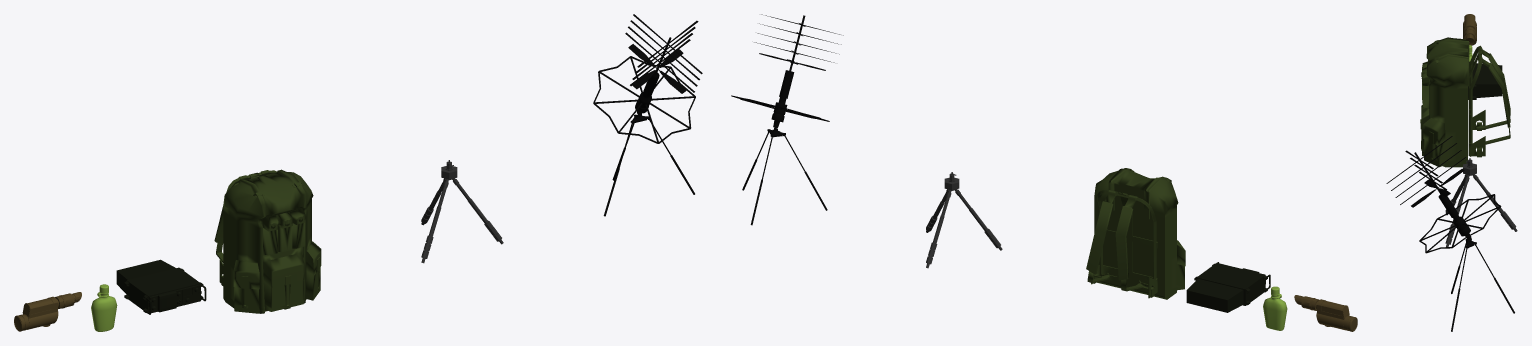
3 views of the same model, side by side, from view 1: azimuth 30°, elevation 25°; view 2: azimuth 150°, elevation 25°; view 3: azimuth 270°, elevation 25° (orthographic). The views are drawn at different scales.
Visible parts, largest first — view 1: Ruck, Antennae, Radio, ScopeRetopo, Tripod, Canteen; view 2: Ruck, Radio, Antennae, ScopeRetopo, Tripod, Canteen; view 3: Ruck, Antennae, Tripod, Radio, ScopeRetopo.
Boxes of the visible parts, <box> form: Ruck: <box>214,169,321,313</box>; Antennae: <box>593,14,702,216</box>; Radio: <box>116,259,206,314</box>; ScopeRetopo: <box>14,292,81,331</box>; Tripod: <box>421,160,503,263</box>; Canteen: <box>91,284,117,331</box>; Ruck: <box>1086,168,1185,299</box>; Radio: <box>1186,262,1270,312</box>; Antennae: <box>731,14,843,225</box>; ScopeRetopo: <box>1294,295,1357,331</box>; Tripod: <box>926,172,1002,268</box>; Canteen: <box>1263,286,1287,330</box>; Ruck: <box>1420,37,1510,167</box>; Antennae: <box>1386,136,1514,331</box>; Tripod: <box>1445,158,1517,246</box>; Radio: <box>1468,61,1502,99</box>; ScopeRetopo: <box>1463,14,1476,45</box>.
Bounding box in the file's own units: 3.53 × 0.99 × 0.6857.
